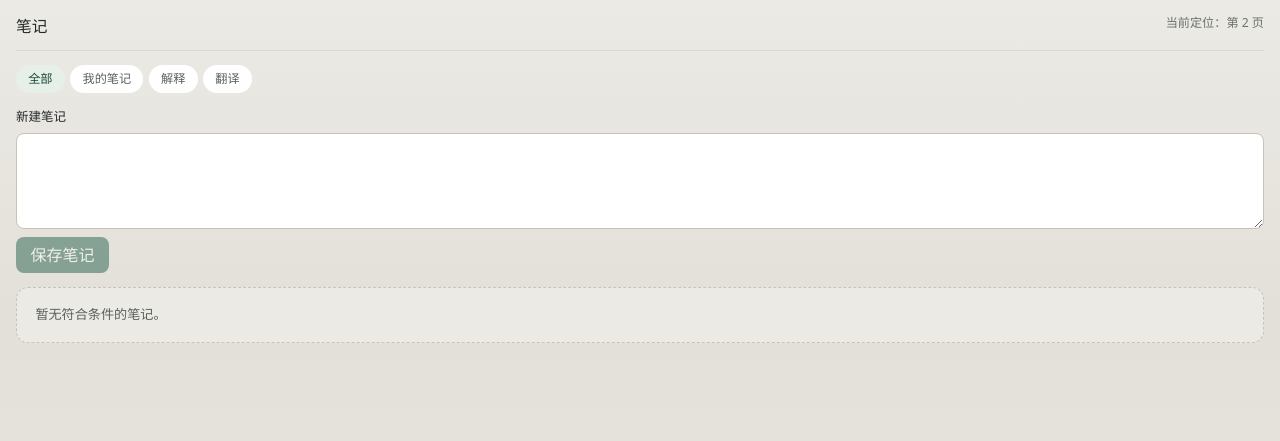
Test: creates a note for the active source once and de-duplicates the authoritative update
Type "记录这个假设。" into the text box labelled "新建笔记" at (640, 181), box left=16, top=133, right=1264, bottom=229
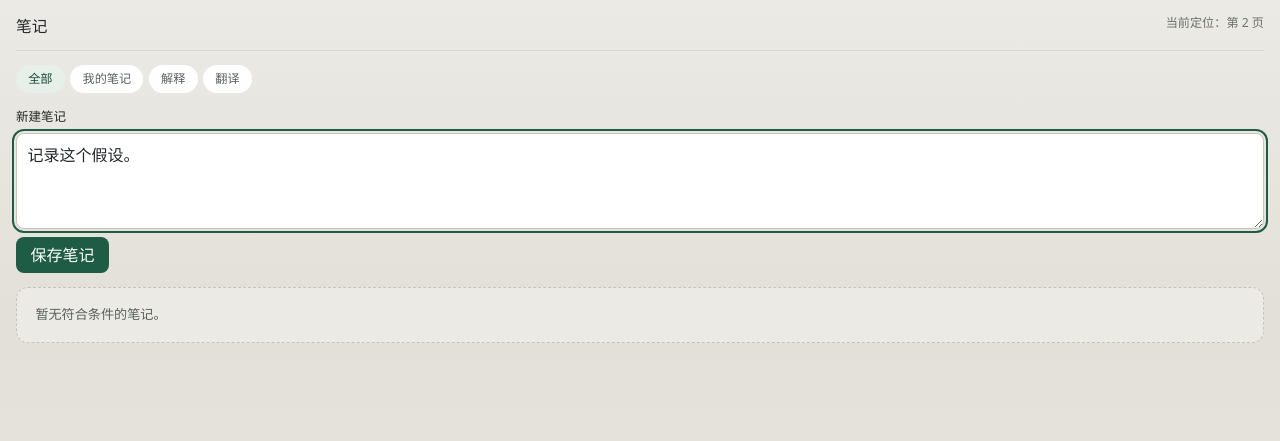
Click the button "保存笔记" at (63, 255), box left=16, top=237, right=109, bottom=273
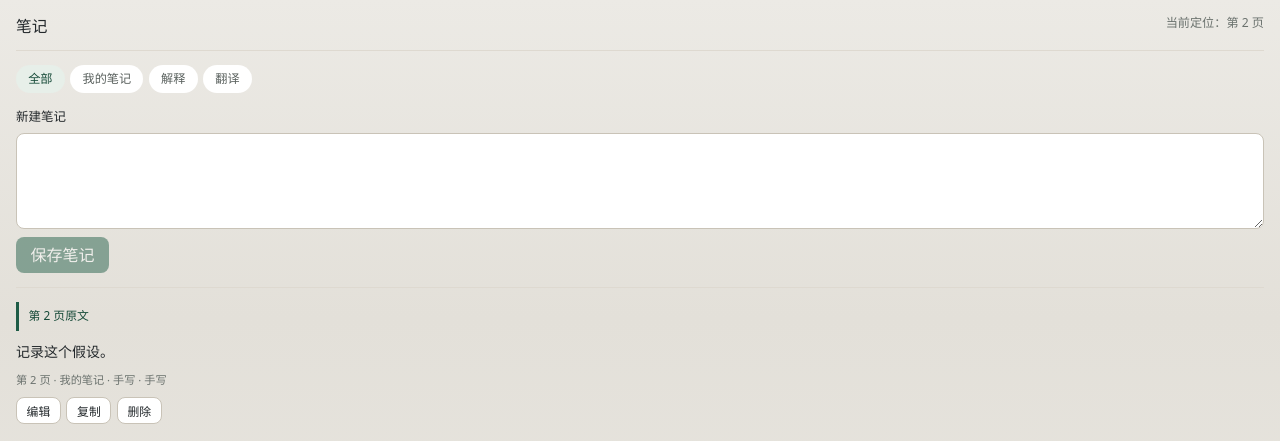
Result: the text "记录这个假设。" is shown once at left=16, top=339, right=114, bottom=364
